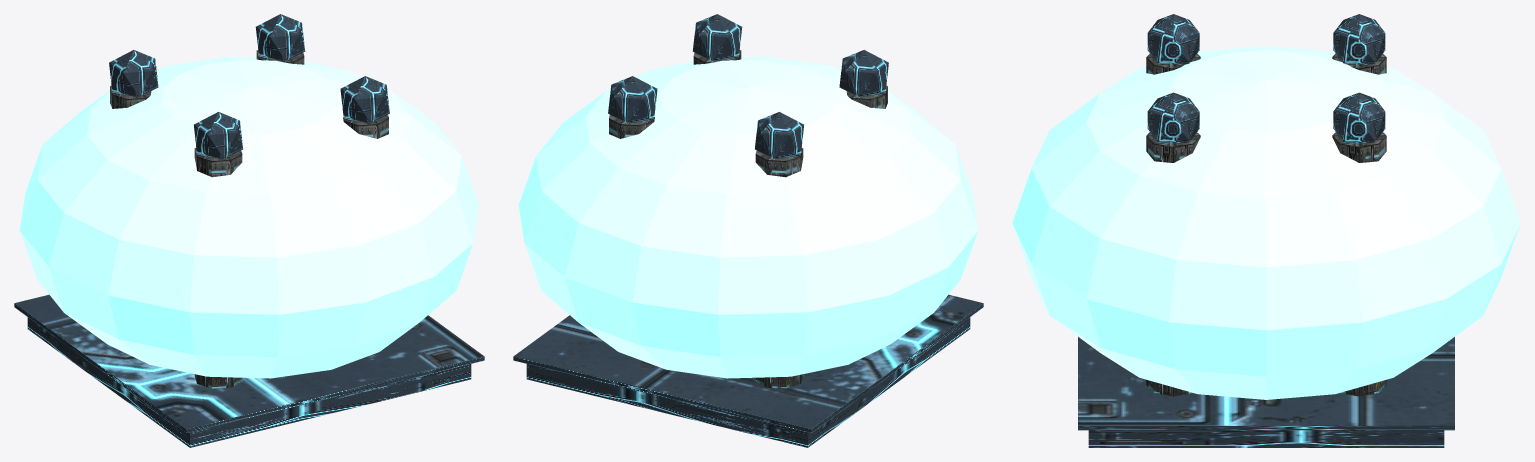
File: def-008.glb
The picture shows the model from 3 angles, left to right: view 1: azimuth 30°, elevation 25°; view 2: azimuth 150°, elevation 25°; view 3: azimuth 270°, elevation 25°; orthographic projection. The views are drawn at different scales.
Parts seen in each view (by area): view 1: DEF008_ShieldGenerator; view 2: DEF008_ShieldGenerator; view 3: DEF008_ShieldGenerator.
Part boxes in pixels (<box>): DEF008_ShieldGenerator: <box>14,14,484,447</box>; DEF008_ShieldGenerator: <box>513,14,983,447</box>; DEF008_ShieldGenerator: <box>1012,14,1520,447</box>.
Bounding box in the file's own units: 6 × 4.16 × 6.
Materials: 3 (2 with a texture image).
